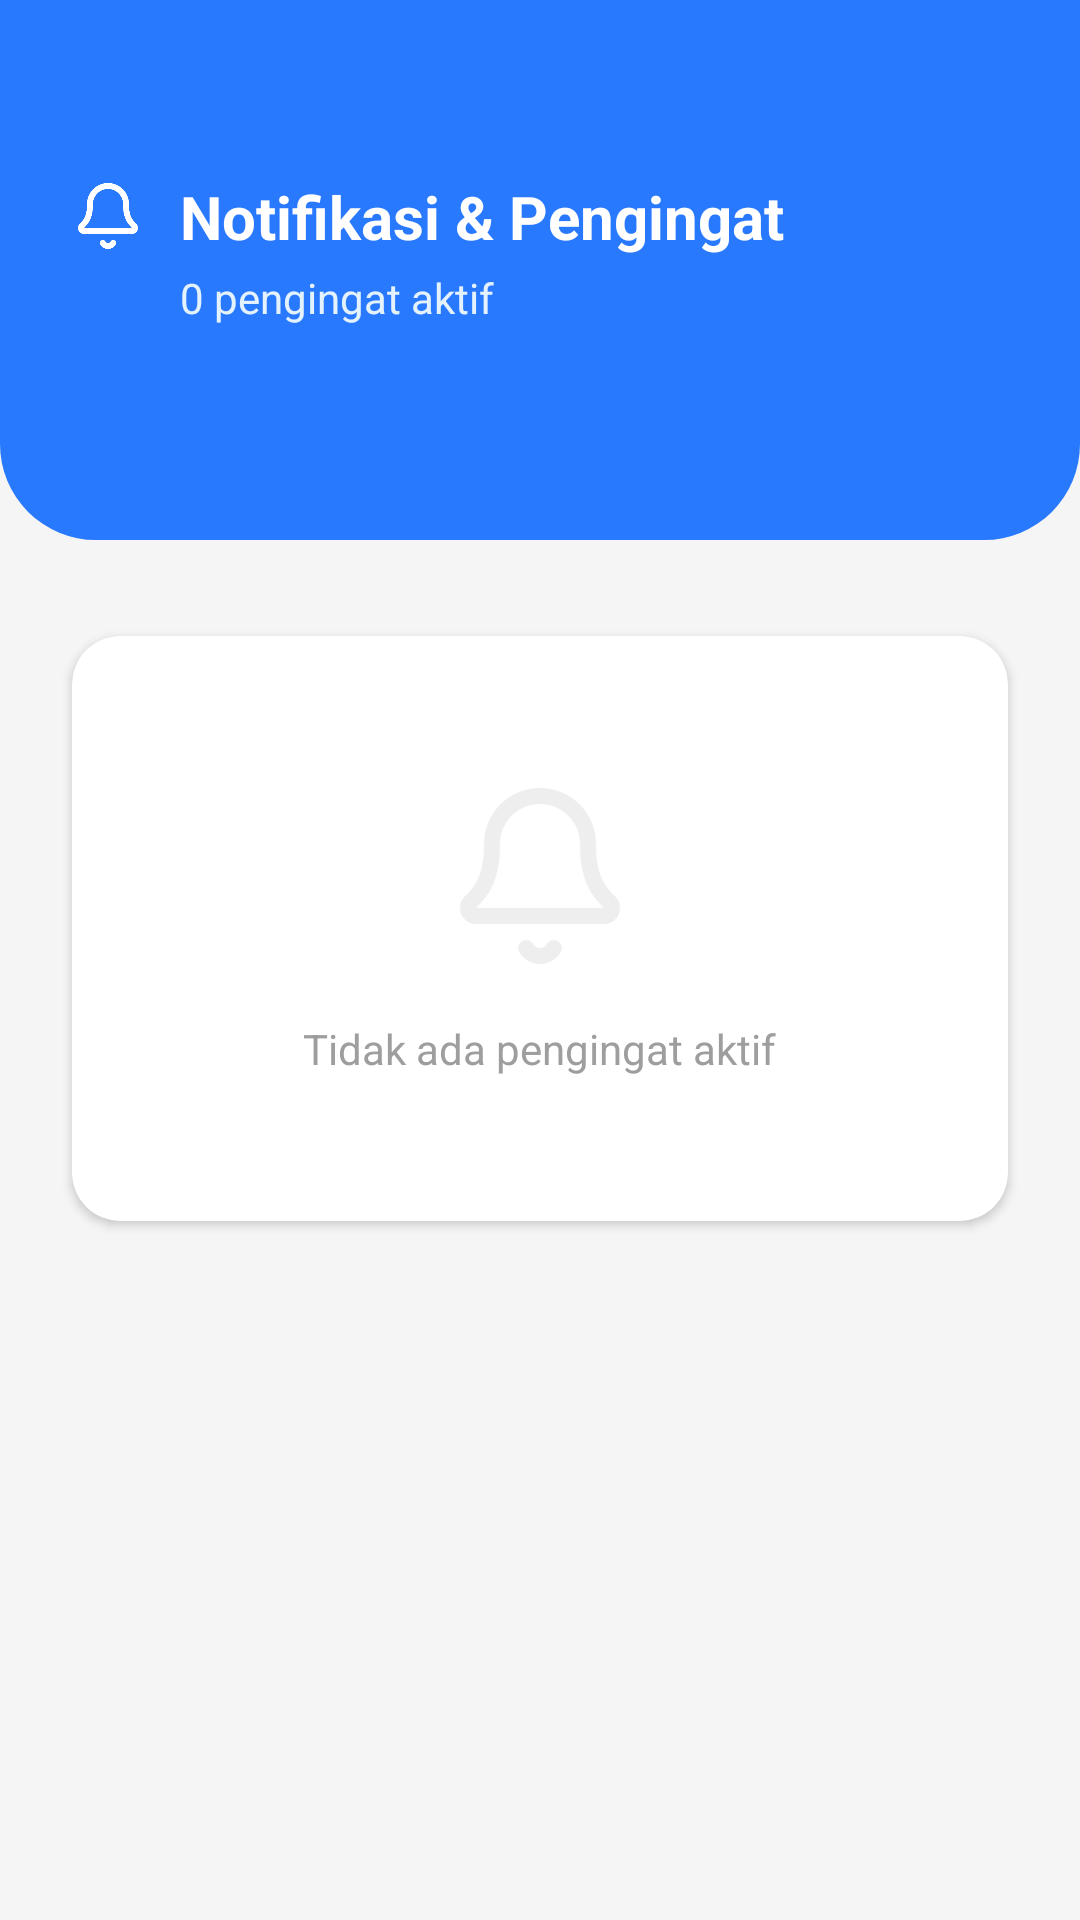

Where to tap for icons on this 1080*1920 app screen, as point (x, y):
notification: point (108, 216)
